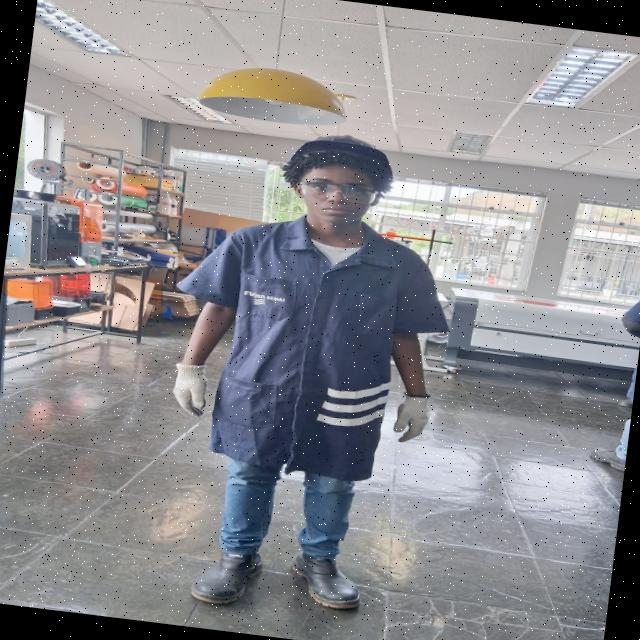BOTA: (285, 547, 362, 610), (188, 546, 262, 607)
CAPACETE: (288, 132, 402, 184)
JALECO: (168, 208, 467, 481)
LUVA: (388, 392, 436, 447), (172, 360, 205, 420)
OCULOS: (297, 180, 373, 207)
